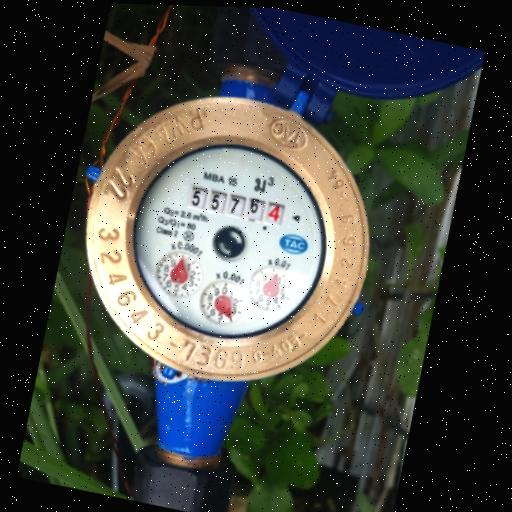4: (266, 203, 283, 226)
5: (190, 185, 207, 208), (208, 190, 225, 211)
6: (248, 199, 264, 220)
7: (227, 192, 246, 217)
border_water_meter_number: (183, 180, 291, 232)
